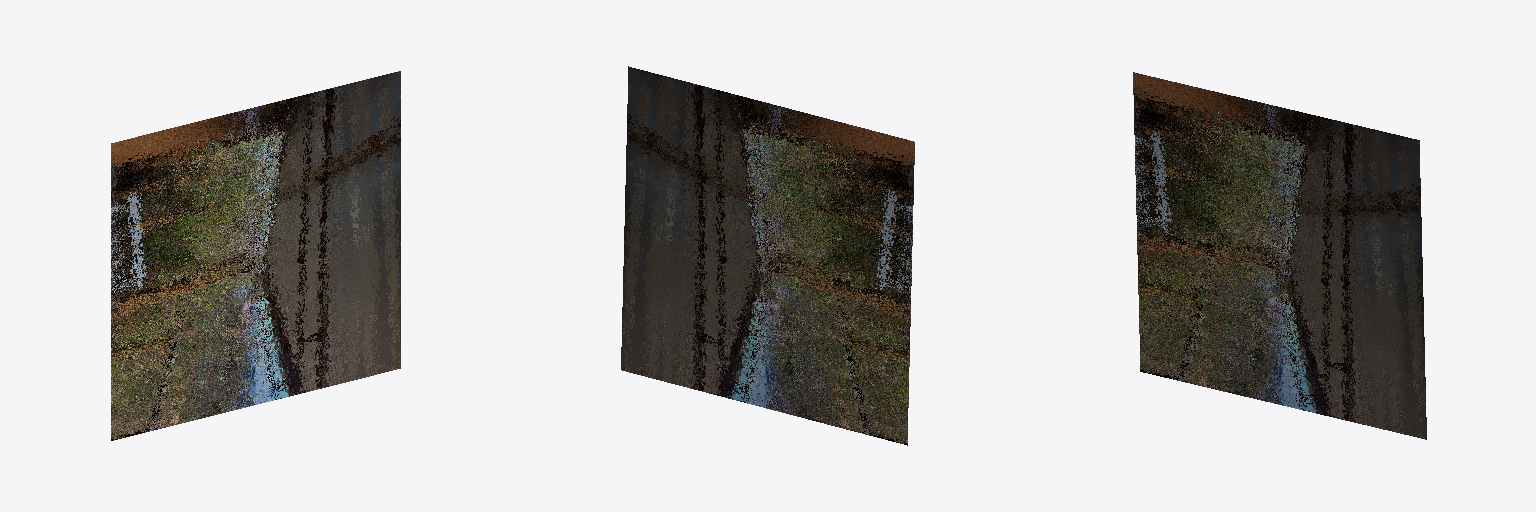
3 renders of one model, left to right at view 1: azimuth 30°, elevation 25°; view 2: azimuth 150°, elevation 25°; view 3: azimuth 330°, elevation 25°, orthographic.
Visible parts, largest first — view 1: Plano; view 2: Plano; view 3: Plano.
Part boxes in pixels (x1,y1,x2,y2): Plano: (111, 71, 400, 440); Plano: (621, 66, 914, 445); Plano: (1133, 72, 1426, 439).
Size of the model in its own units: 2.02 by 2.02 by 0.0694.
1 materials, 1 textured.